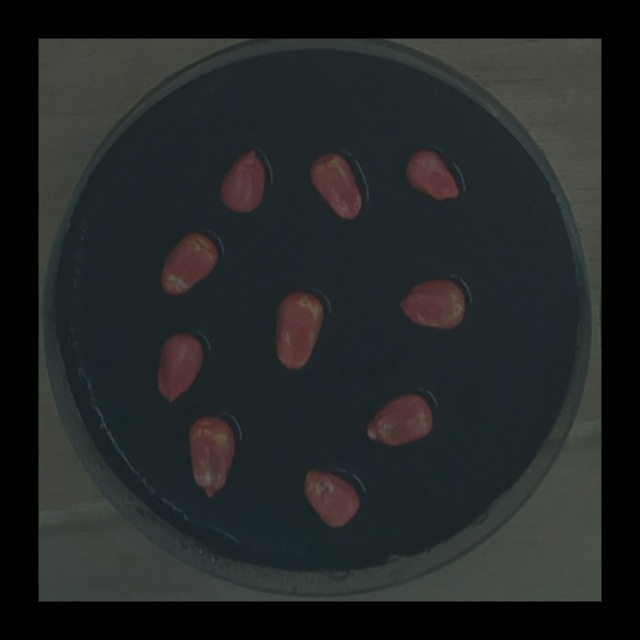Zea mays: (268, 285, 330, 376), (154, 226, 226, 304), (302, 146, 369, 228), (183, 411, 240, 507), (359, 387, 437, 453), (297, 463, 365, 534), (151, 328, 209, 411), (393, 274, 470, 334), (399, 144, 466, 208), (212, 144, 268, 218)
